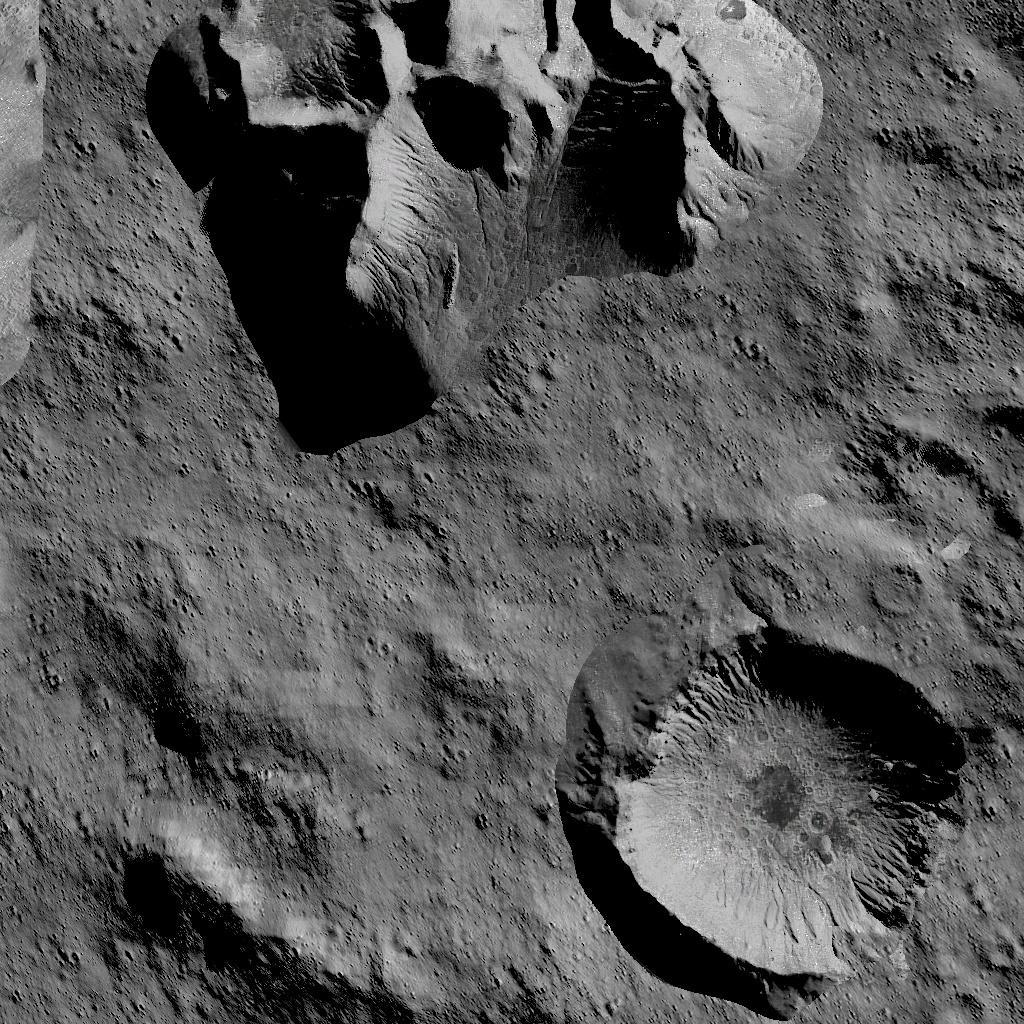Boulders: (141, 0, 830, 455), (116, 822, 416, 1024), (68, 574, 322, 810), (4, 0, 42, 398)
Crater: (565, 616, 985, 1000)
Plan surface: (849, 4, 1024, 376), (76, 478, 720, 558), (338, 582, 548, 804)
